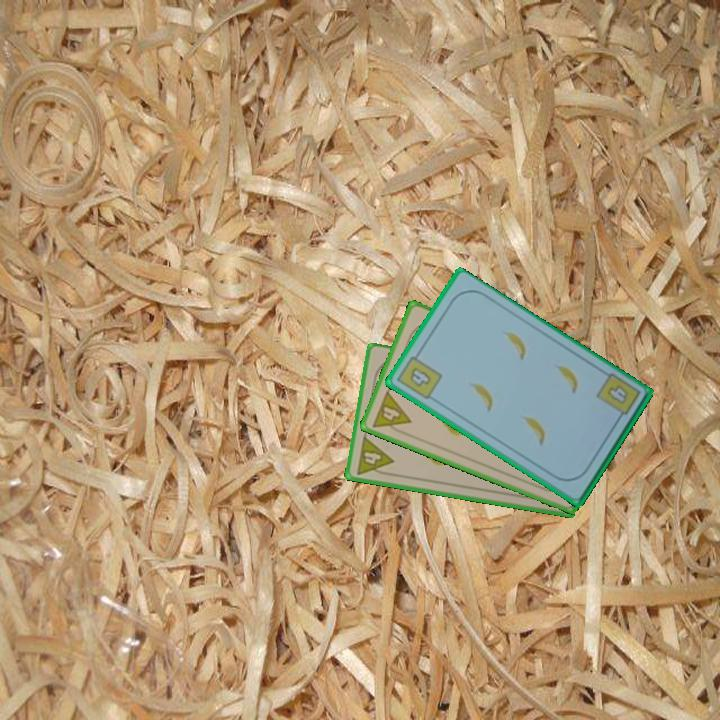4b: (393, 348, 445, 403), (593, 370, 643, 425)
4p: (368, 387, 414, 438), (353, 433, 396, 479)
